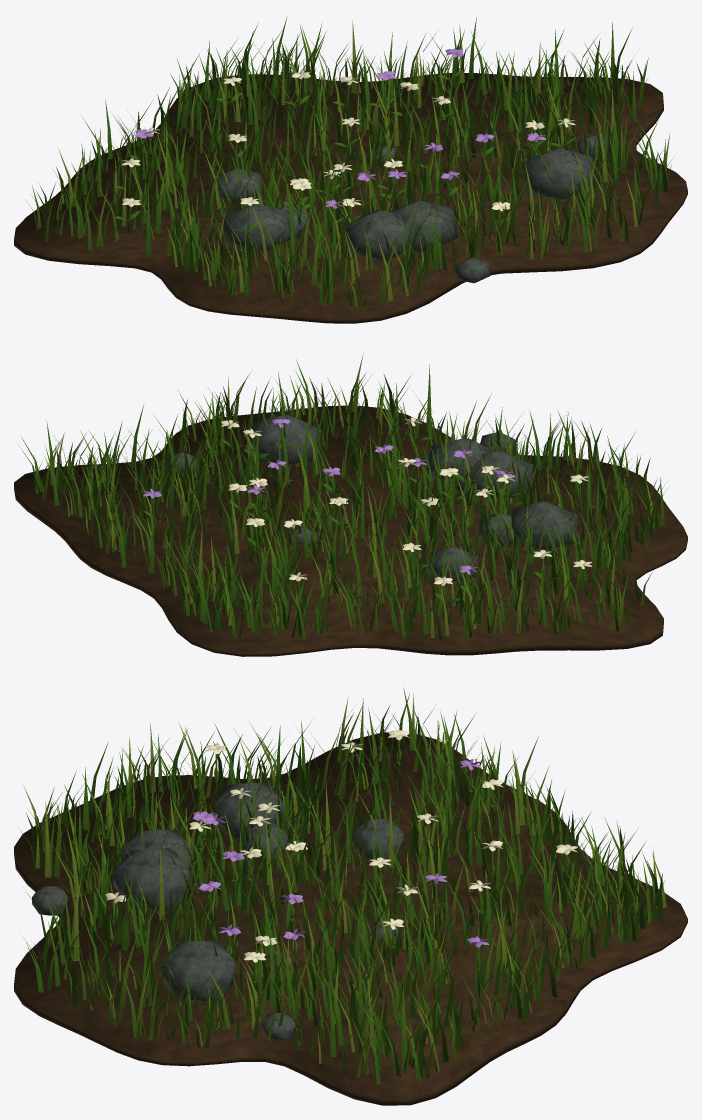
The model's file is 08_grass_patch.glb.
The picture shows the model from 3 angles, top to bottom: view 1: azimuth 30°, elevation 25°; view 2: azimuth 150°, elevation 25°; view 3: azimuth 270°, elevation 25°; orthographic projection. The views are drawn at different scales.
Parts seen in each view (by area): view 1: Grass patch | individual bent grass blades, Grass patch | irregular soil foundation, 08_grass_patch | Hill | weathered slate, Grass patch | wildflower stems and petals; view 2: Grass patch | individual bent grass blades, Grass patch | irregular soil foundation, 08_grass_patch | Hill | weathered slate, Grass patch | wildflower stems and petals; view 3: Grass patch | individual bent grass blades, Grass patch | irregular soil foundation, 08_grass_patch | Hill | weathered slate, Grass patch | wildflower stems and petals.
Boxes of the visible parts, x1=… form: Grass patch | individual bent grass blades: x1=26, y1=16, x2=671, y2=308; Grass patch | irregular soil foundation: x1=14, y1=73, x2=687, y2=323; 08_grass_patch | Hill | weathered slate: x1=214, y1=135, x2=608, y2=283; Grass patch | wildflower stems and petals: x1=114, y1=48, x2=575, y2=258; Grass patch | individual bent grass blades: x1=19, y1=354, x2=664, y2=640; Grass patch | irregular soil foundation: x1=14, y1=405, x2=687, y2=656; 08_grass_patch | Hill | weathered slate: x1=165, y1=414, x2=577, y2=581; Grass patch | wildflower stems and petals: x1=143, y1=417, x2=598, y2=620; Grass patch | individual bent grass blades: x1=21, y1=688, x2=666, y2=1084; Grass patch | irregular soil foundation: x1=14, y1=732, x2=687, y2=1105; 08_grass_patch | Hill | weathered slate: x1=32, y1=783, x2=403, y2=1040; Grass patch | wildflower stems and petals: x1=105, y1=729, x2=577, y2=1007.
Bounding box in the file's own units: 4.43 × 0.4716 × 3.44.
Materials: 6 (4 with a texture image).
